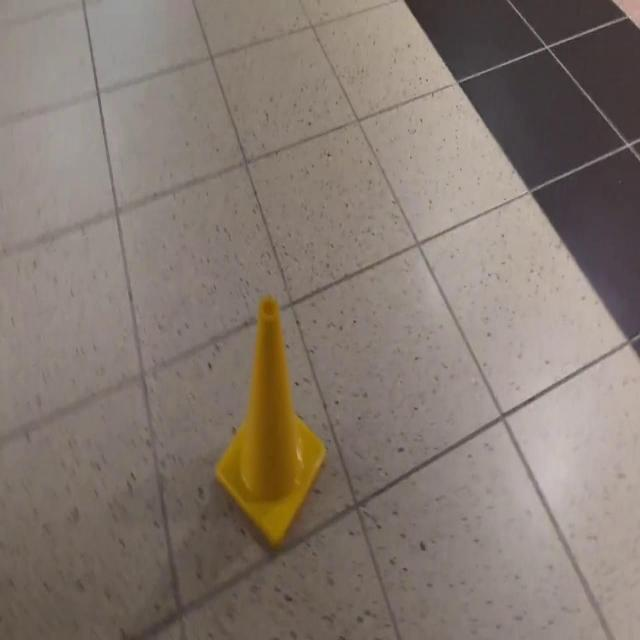frc_cone: (215, 295, 327, 549)
